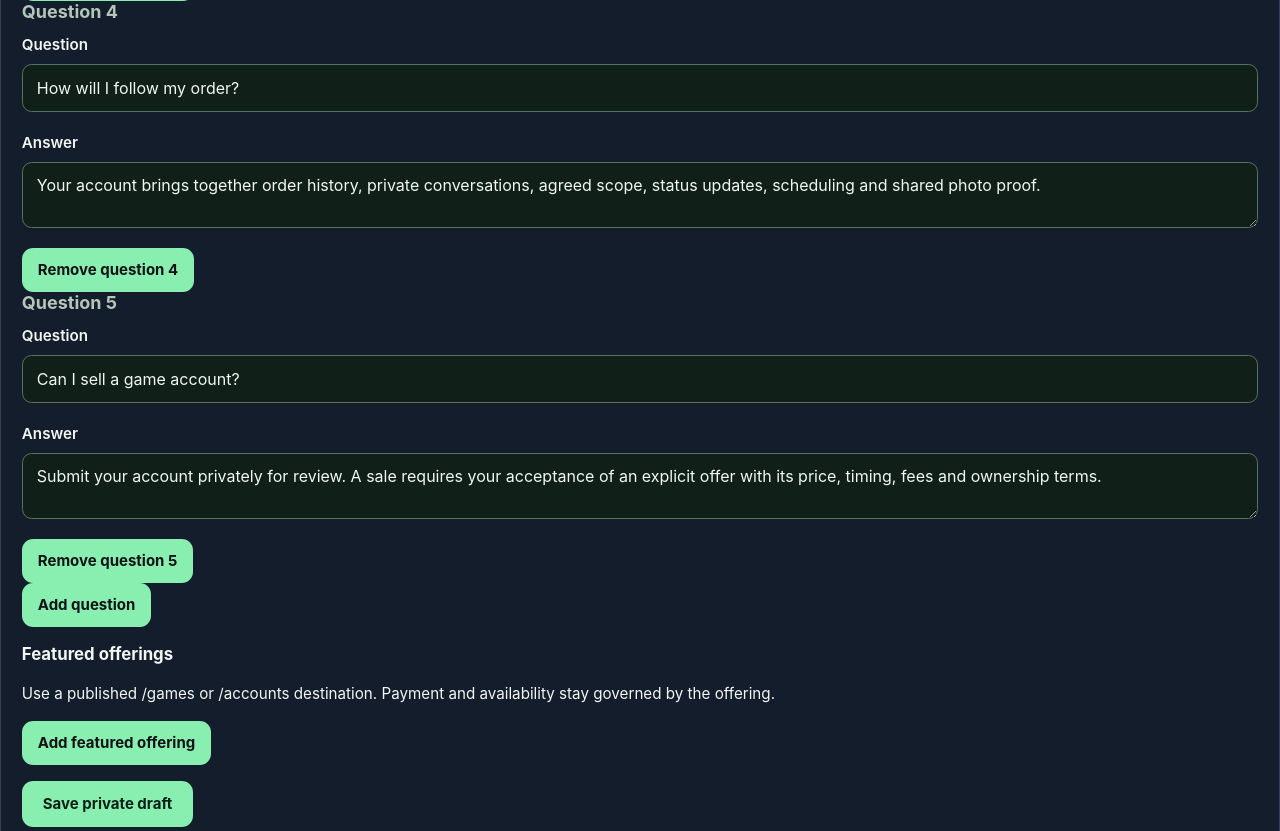
Scenario: associates FAQ authoring errors with the visible fields and retains the draft
(page scrolled)
Click the button "Add question" at (87, 605), box 22,583 -> 151,627
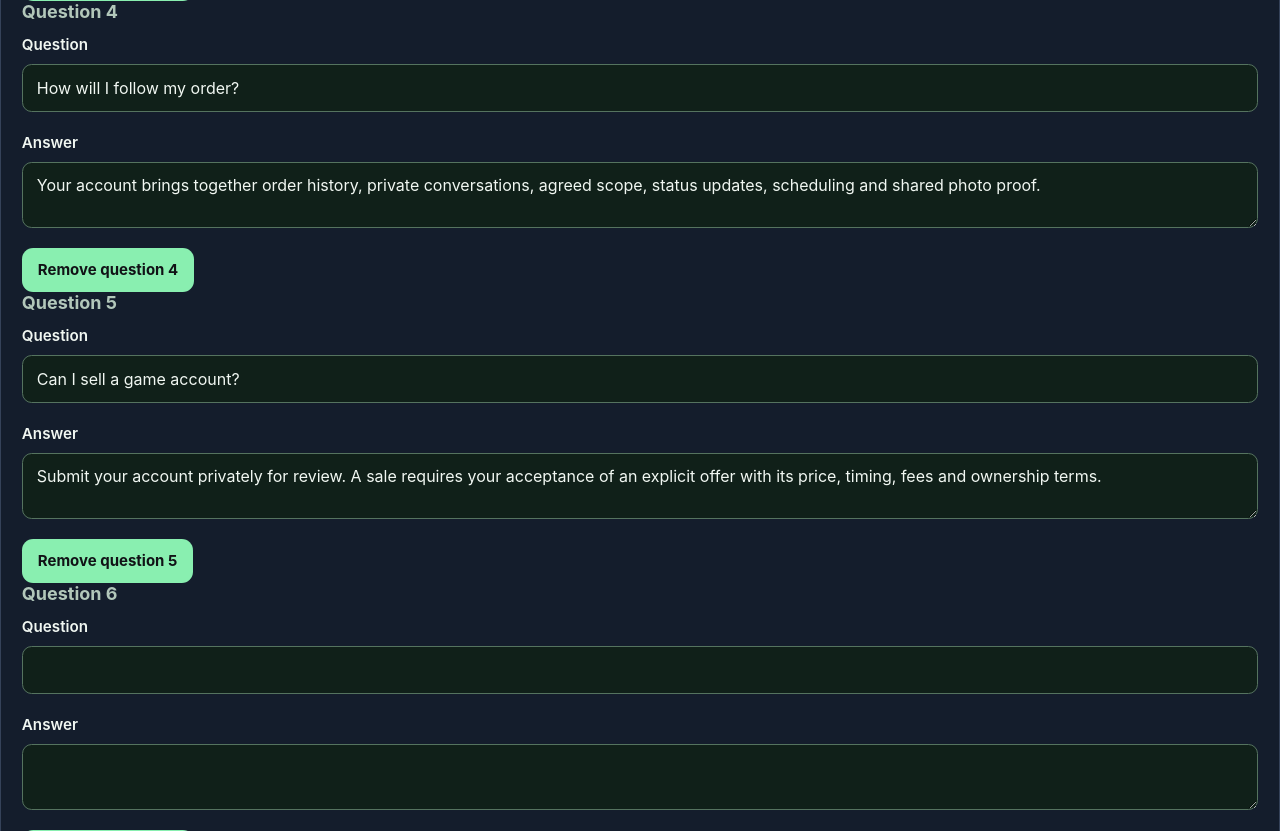
Type "Retained question" into the 3rd field labelled "Question" at (640, 670), box 22,646 -> 1258,694
(page scrolled)
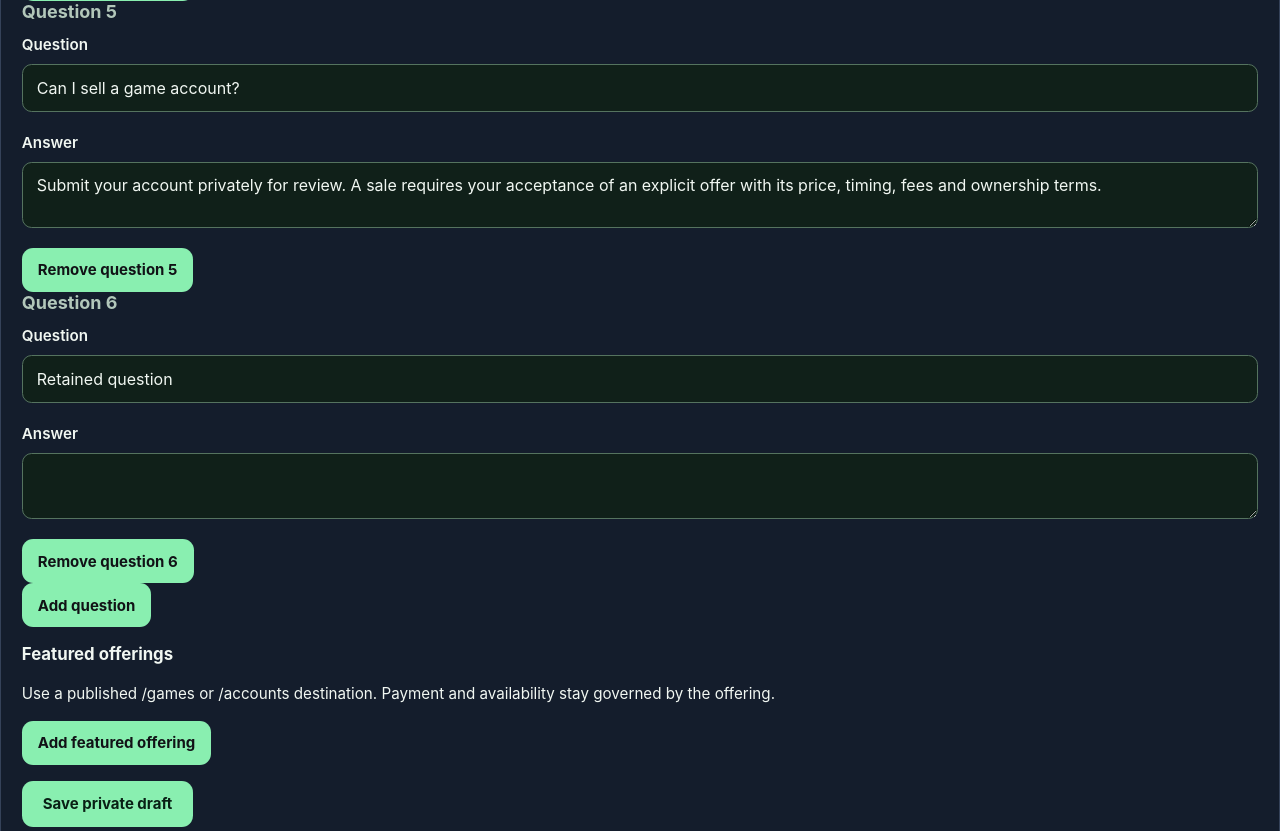
Click the button "Save private draft" at (108, 804), box 22,781 -> 193,827
(page scrolled)
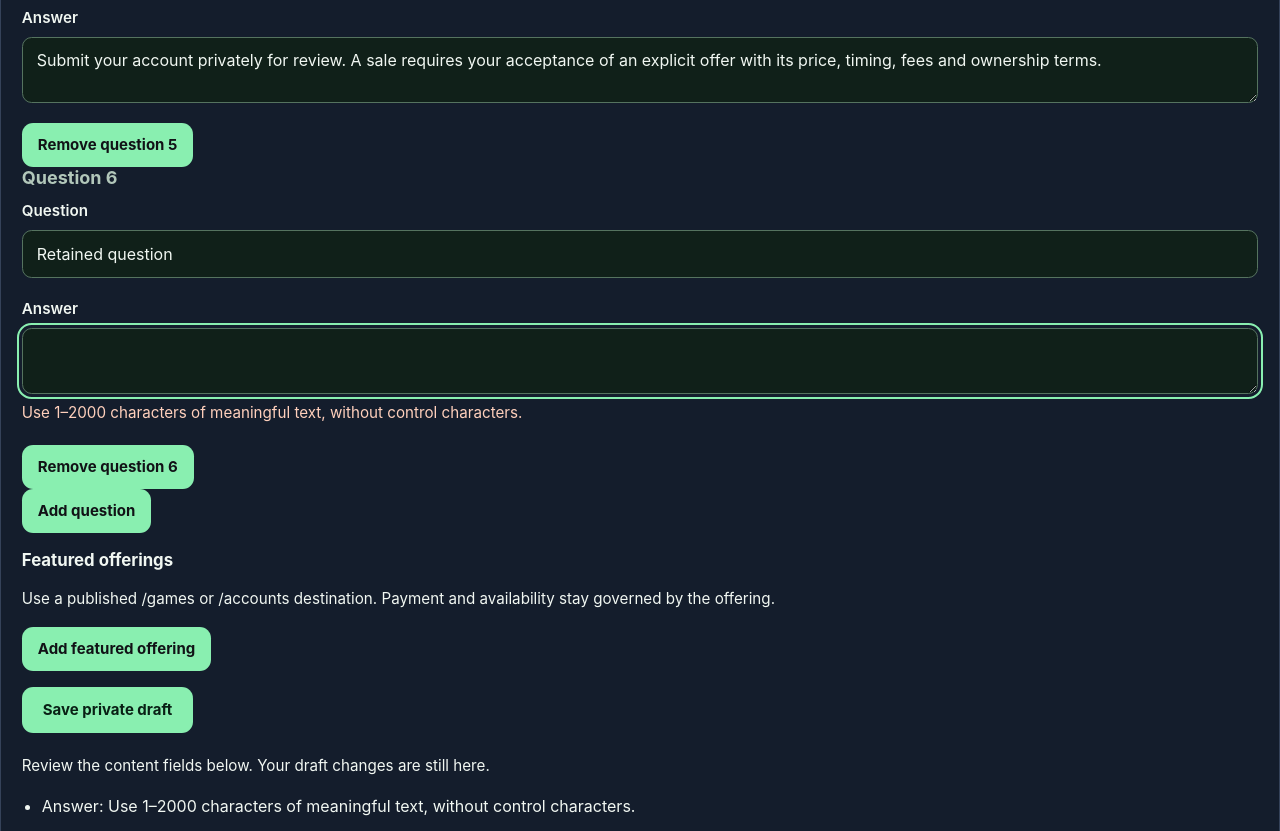
Expected: the link "Answer: Use 1–2000" is shown, 42,796 -> 636,816
